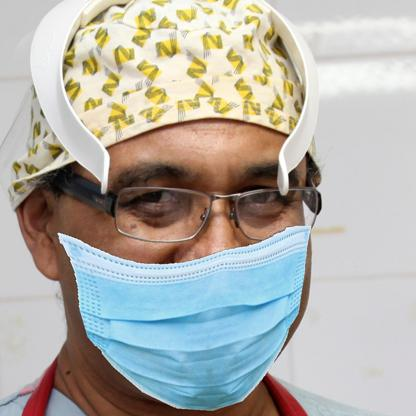mask: (53, 226, 312, 411)
